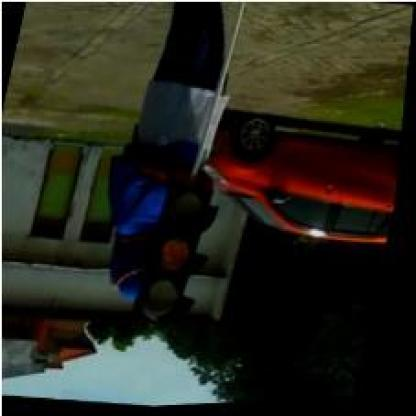yellow: (134, 181, 225, 332)
